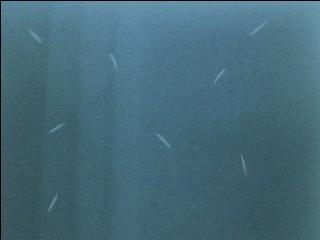scratch: (239, 16, 271, 46), (26, 21, 52, 49), (147, 127, 174, 153), (212, 62, 230, 90), (48, 117, 70, 135), (46, 189, 61, 214), (107, 49, 121, 75), (239, 149, 250, 178)
